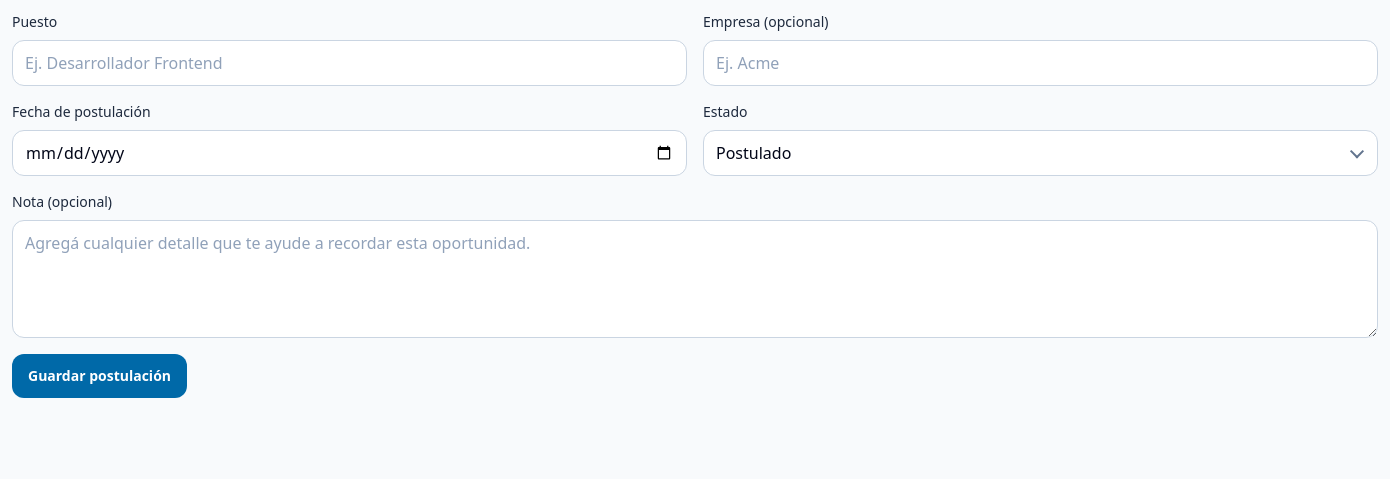
ApplicationForm › shows Spanish validation errors next to invalid fields and prevents submission
The width and height of the screenshot is (1390, 479).
Click the button "Guardar postulación": (100, 376) [12,354,187,398]
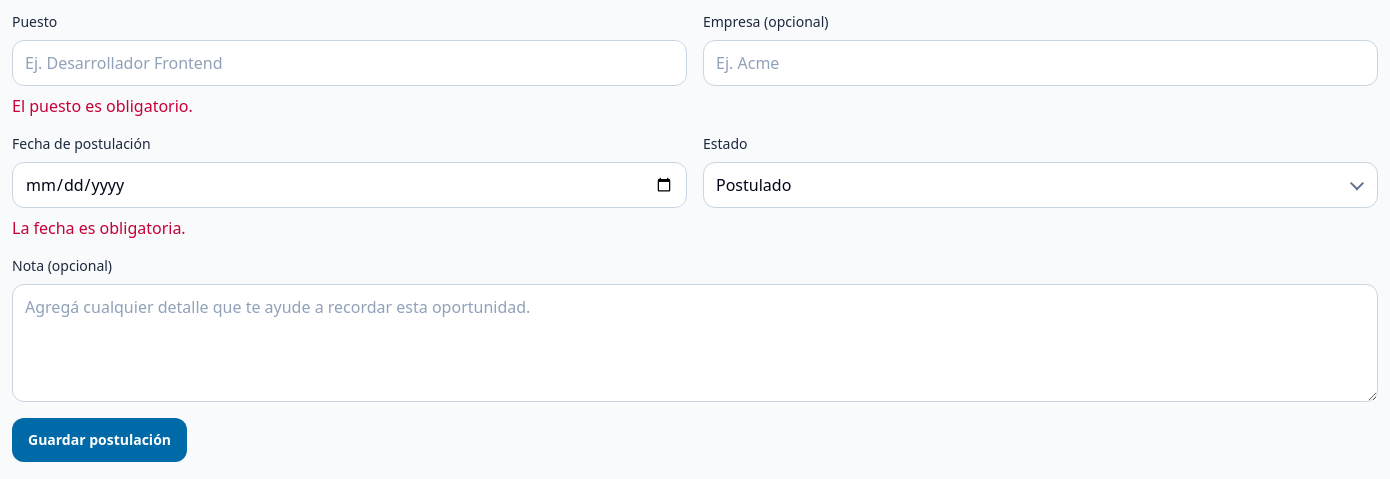
Result: the text "El puesto es obligatorio." is shown at [12,95,193,117]
Result: the text "La fecha es obligatoria." is shown at [12,217,186,239]
